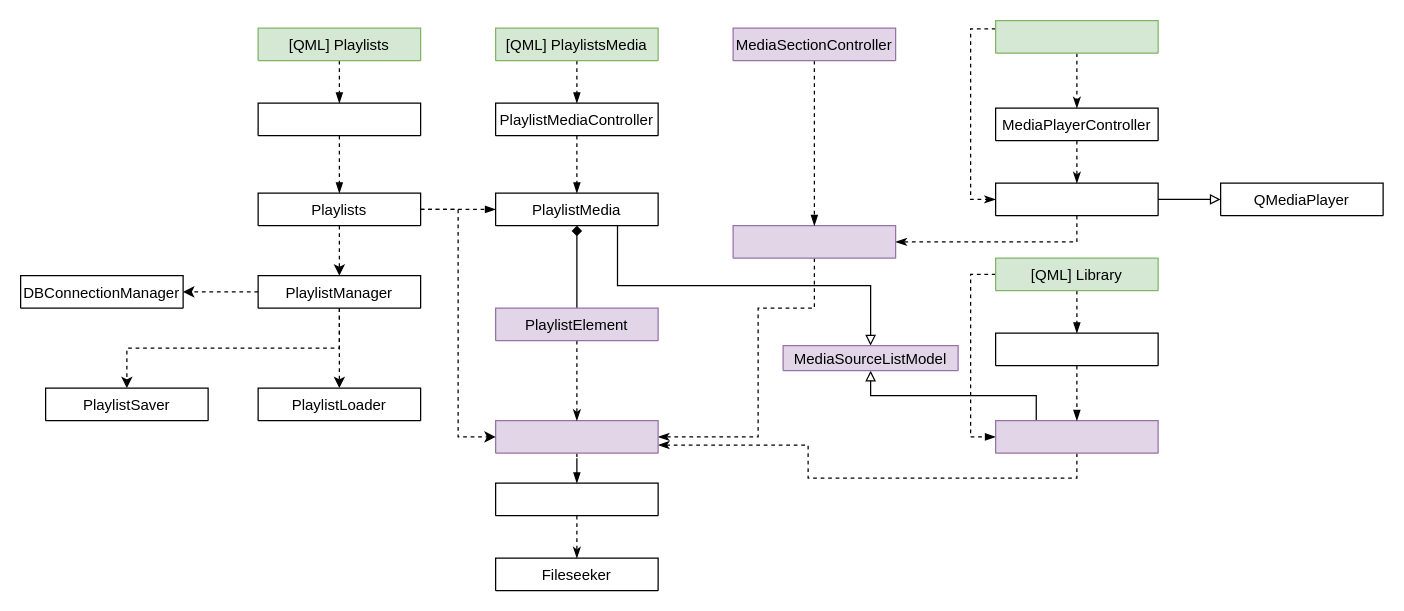
Image size: 1404x611. Some labels were removed from this diagram. Each missing label, with the box of its shape:
[QML] MediaPlayer: (994, 19, 1158, 53)
FileseekerManager: (494, 482, 658, 516)
Library: (994, 419, 1158, 453)
LibraryController: (994, 332, 1158, 366)
MediaPlayer: (994, 182, 1158, 216)
MediaSourceRouter: (732, 224, 896, 258)
MediaStorage: (494, 419, 658, 453)
PlaylistsController: (257, 102, 421, 136)
